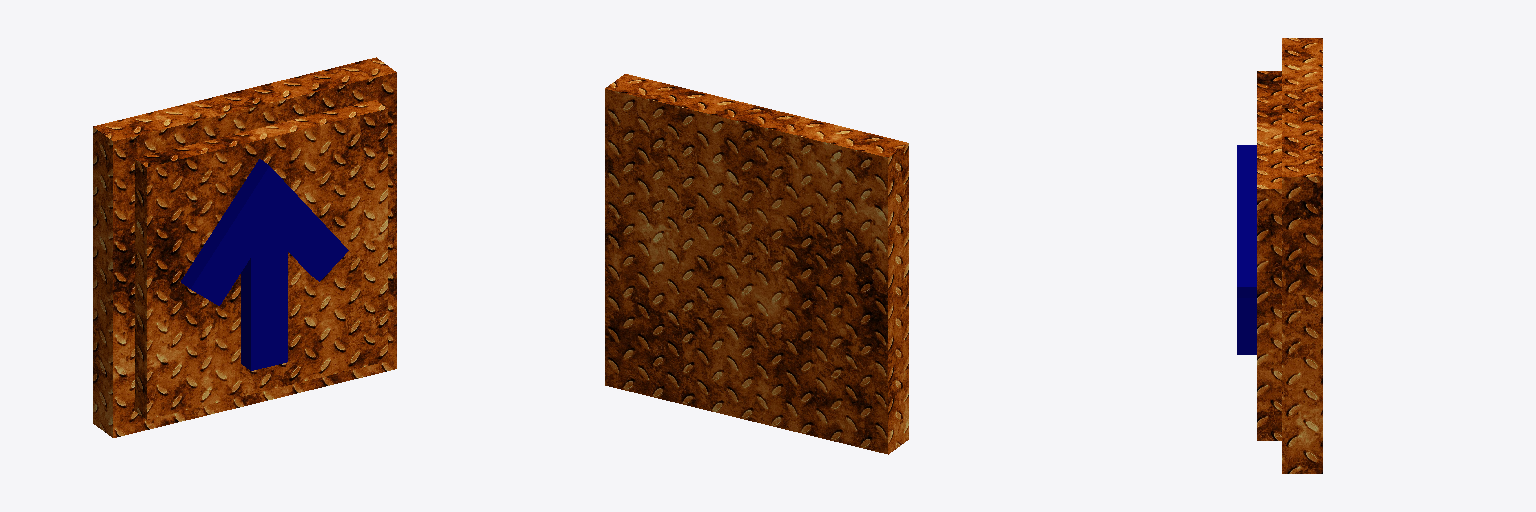
3 views of the same model, side by side, from view 1: azimuth 30°, elevation 25°; view 2: azimuth 150°, elevation 25°; view 3: azimuth 270°, elevation 25° (orthographic).
Visible parts, largest first — view 1: Box001, Loft002; view 2: Box001; view 3: Box001, Loft002.
Boxes of the visible parts, <box> form: Box001: <box>93,57,396,437</box>; Loft002: <box>181,159,348,370</box>; Box001: <box>605,74,908,454</box>; Box001: <box>1257,38,1322,473</box>; Loft002: <box>1237,145,1256,354</box>.
Size of the model in its own units: 40 by 40 by 10.45.
2 materials, 1 textured.